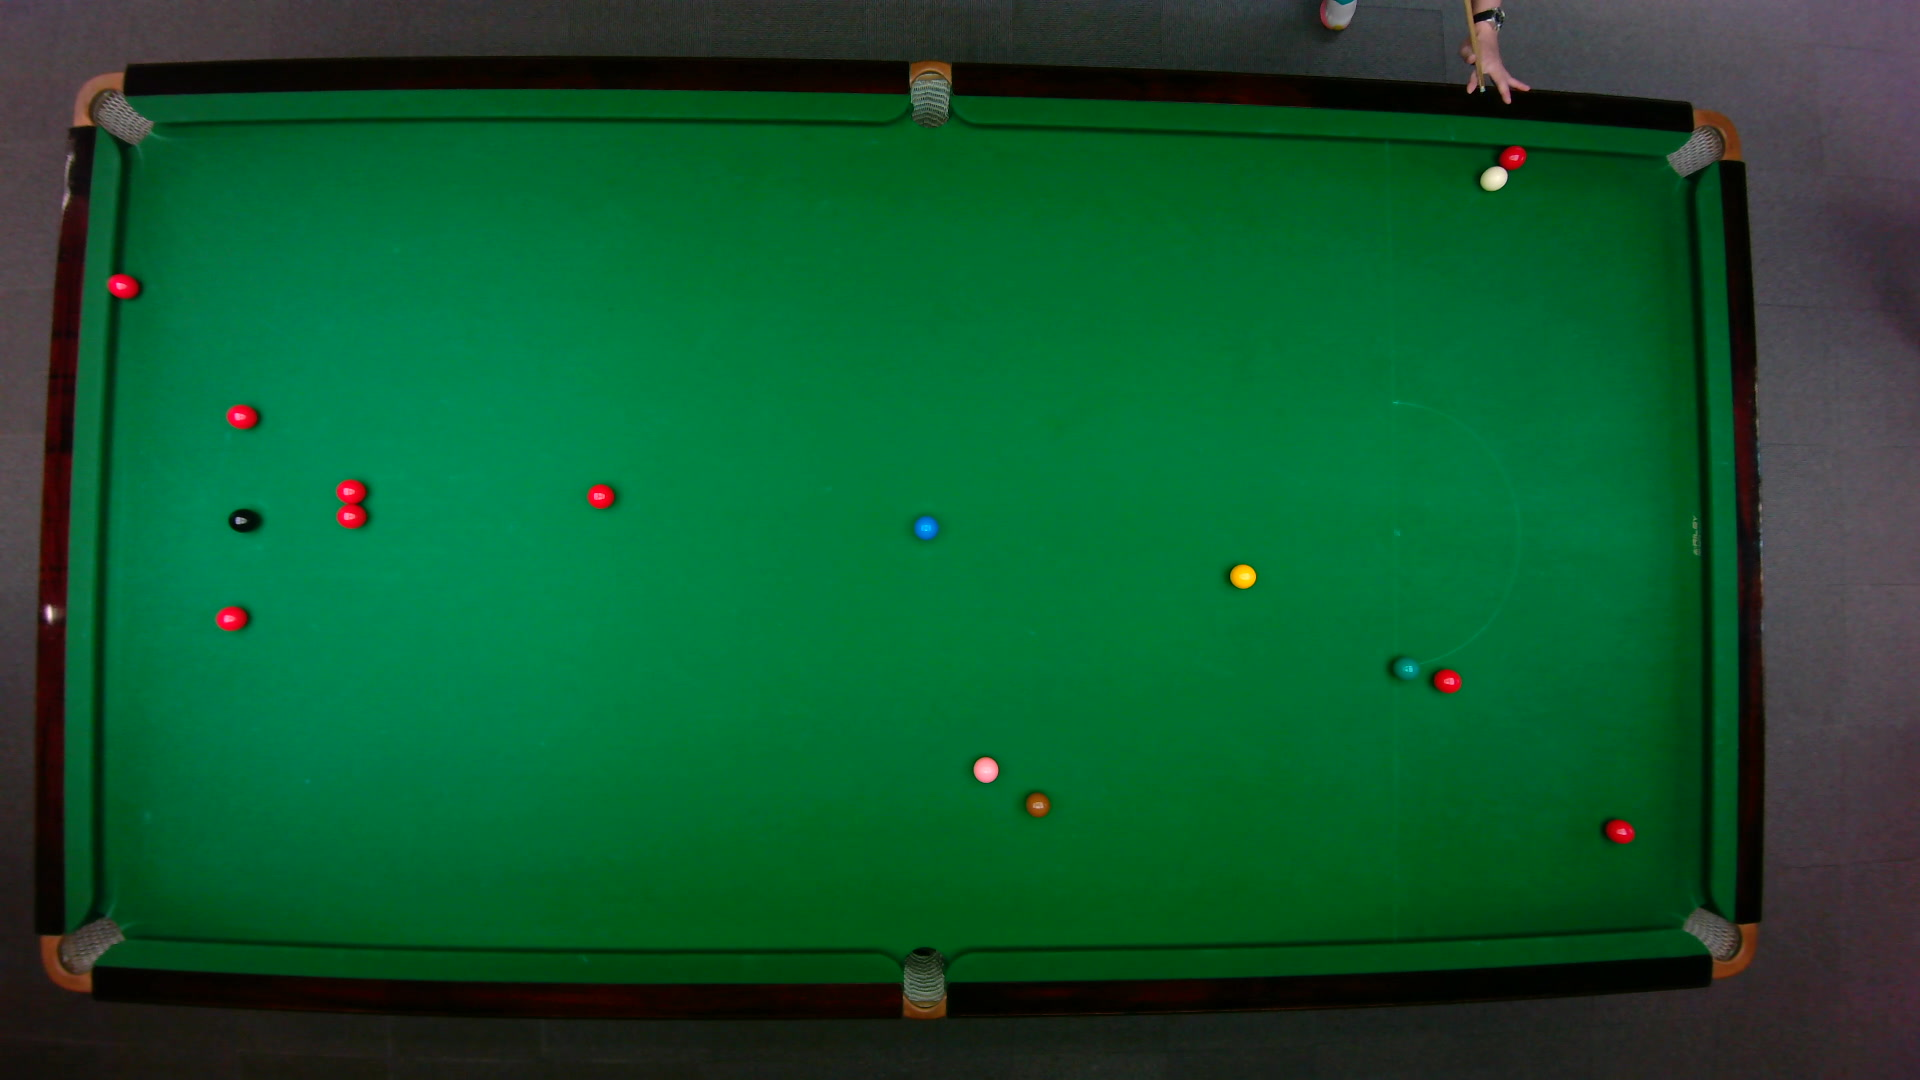bag: (37, 915, 127, 992), (70, 71, 156, 146), (1679, 905, 1758, 978), (1663, 107, 1742, 178), (902, 945, 945, 1021), (909, 59, 952, 129)
black: (227, 506, 260, 534)
blue: (913, 514, 939, 541)
brown: (1023, 793, 1051, 818)
cue: (1462, 0, 1487, 94)
green: (1391, 655, 1420, 680)
pink: (971, 756, 1000, 785)
red: (105, 272, 141, 301), (214, 605, 249, 632), (335, 477, 368, 505), (1604, 818, 1636, 845), (225, 404, 258, 430), (1498, 144, 1528, 171), (585, 483, 616, 510), (335, 505, 368, 530), (1431, 669, 1462, 694)
white: (1478, 165, 1509, 193)
yellow: (1228, 563, 1258, 589)
zone: (1390, 400, 1520, 669)
